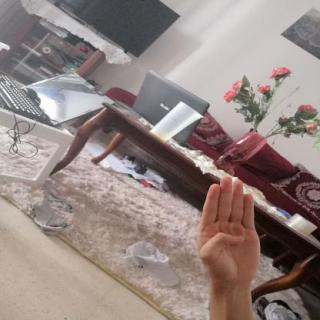KAAF: (185, 168, 271, 294)
